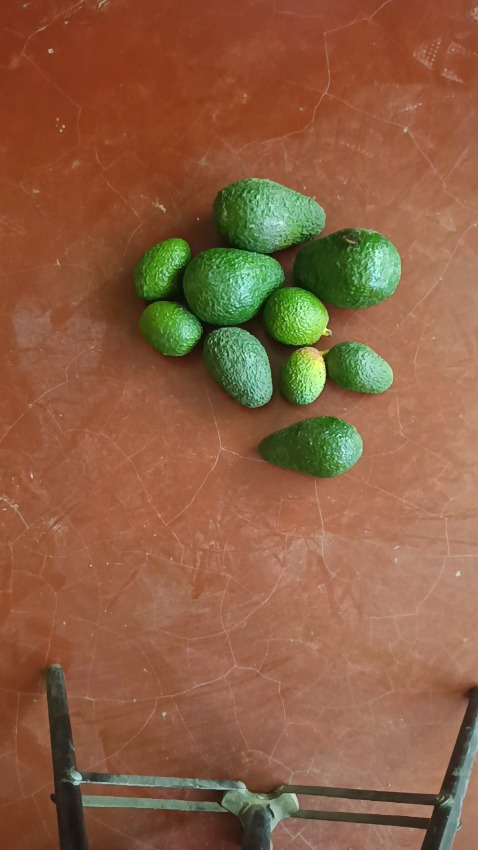Primera: (292, 229, 402, 310), (212, 179, 326, 254), (182, 248, 283, 326)
Segunda: (258, 415, 363, 477), (202, 326, 273, 407)
Tercera: (262, 287, 330, 346), (322, 341, 393, 395), (133, 238, 192, 302), (138, 300, 203, 357), (280, 346, 329, 404)
